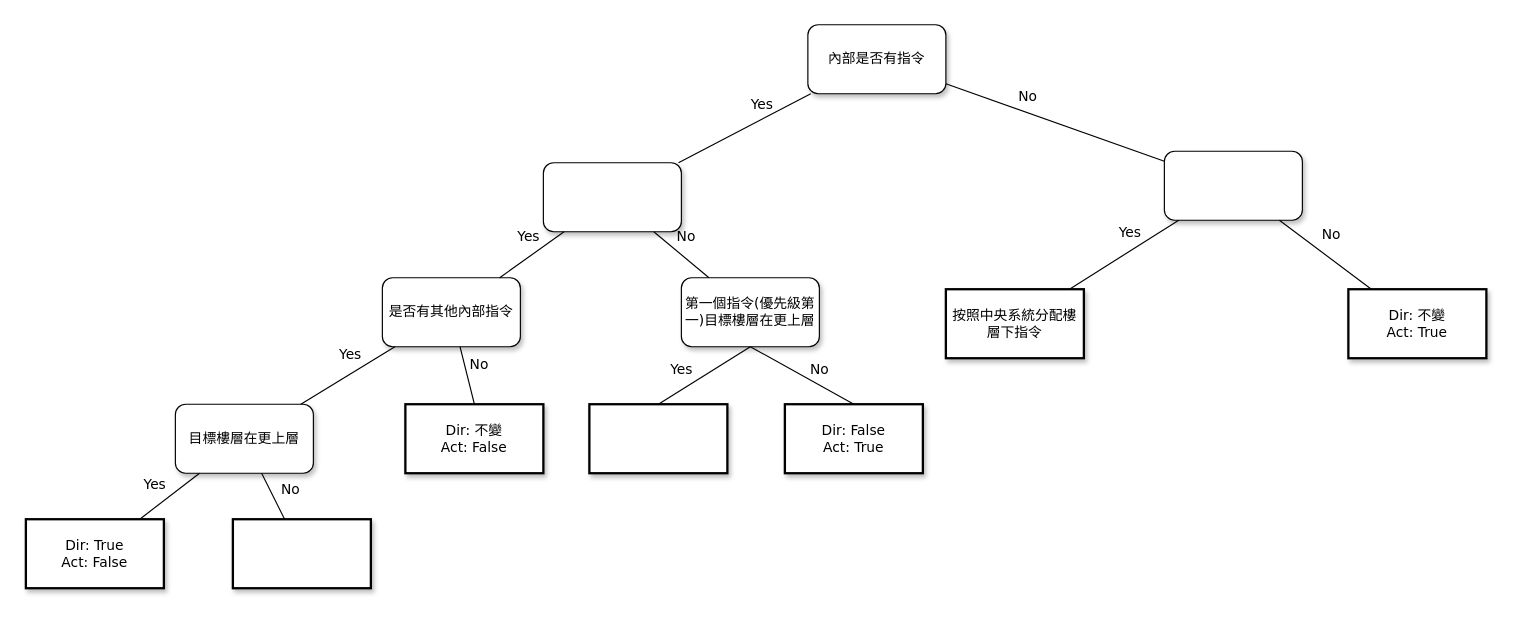
Some shapes in this 1513 by 618 pixel diagram are drawn without their labels. Each missing label, with the centre of its shape:
Dir: False Act: False: pixel 302 555
Dir: True Act: True: pixel 659 440
外部樓層有人呼叫: pixel 1234 186
目前樓層有在內部指令的目標中: pixel 613 198
